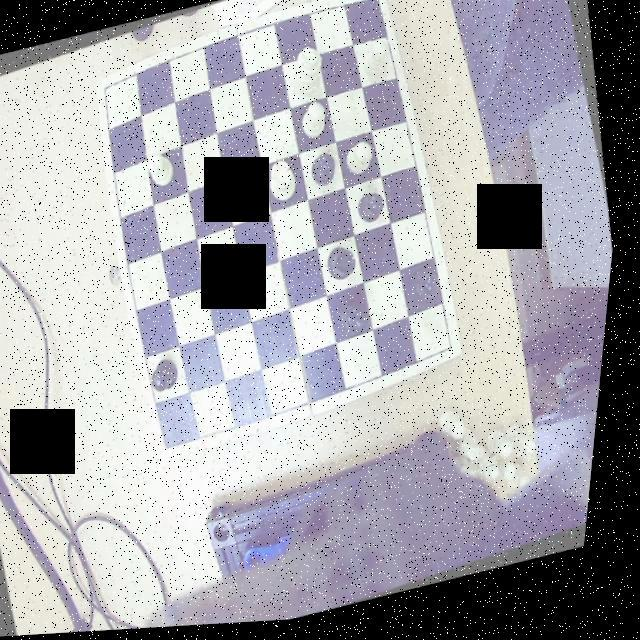chess-table-corners: (164, 431, 194, 462), (442, 340, 470, 370), (98, 75, 124, 101), (366, 0, 391, 22)
